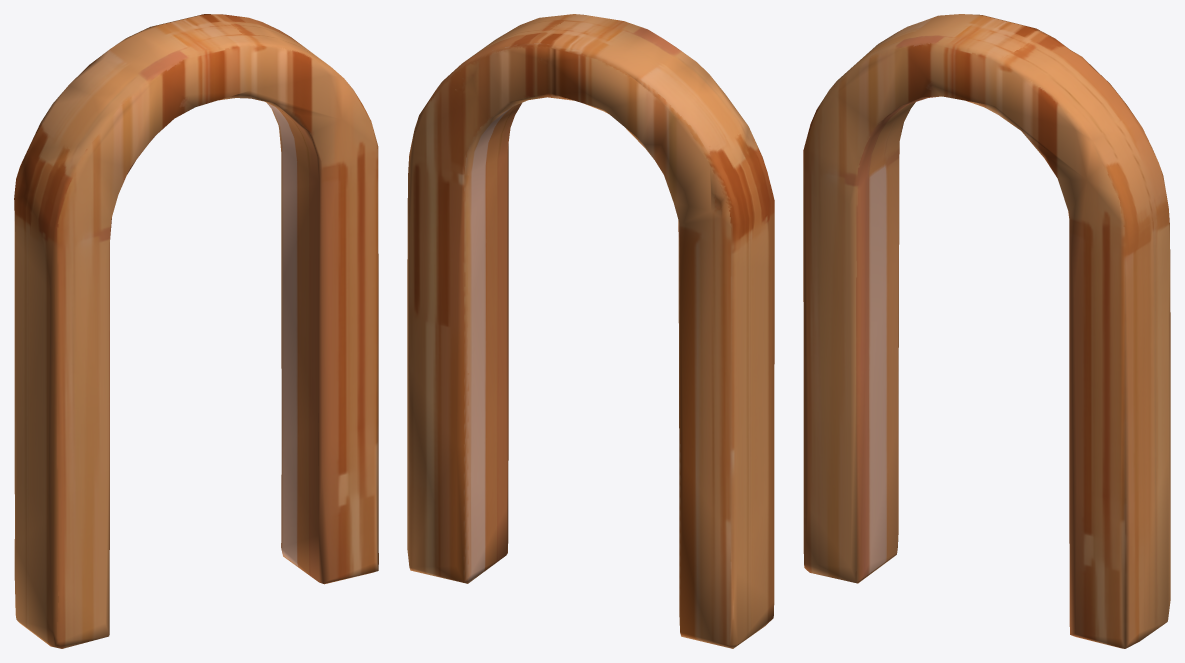
Rendered from open-arched-doorway.glb.
The picture shows the model from 3 angles, left to right: view 1: azimuth 30°, elevation 25°; view 2: azimuth 150°, elevation 25°; view 3: azimuth 330°, elevation 25°; orthographic projection.
Parts seen in each view (by area): view 1: geometry_0.001; view 2: geometry_0.001; view 3: geometry_0.001.
Boxes of the visible parts, <box> form: geometry_0.001: <box>14,14,378,648</box>; geometry_0.001: <box>407,14,774,648</box>; geometry_0.001: <box>803,14,1170,648</box>.
Bounding box in the file's own units: 0.6115 × 1 × 0.14.
1 material, 1 textured.
